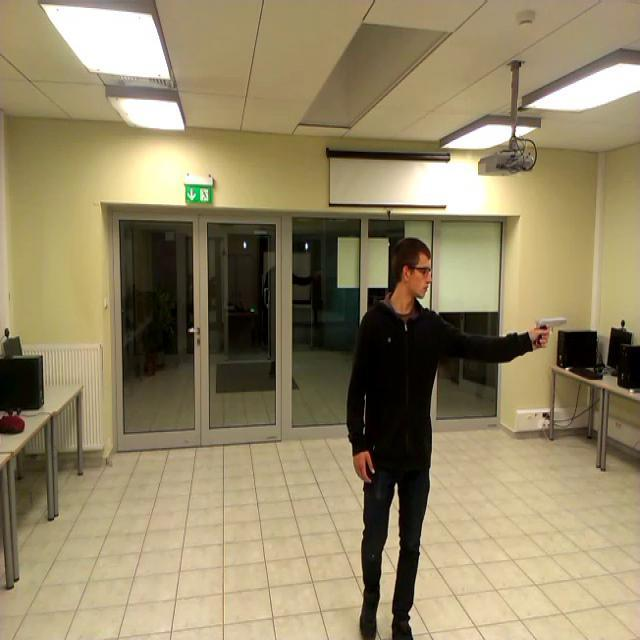Gun: (536, 316, 568, 346)
